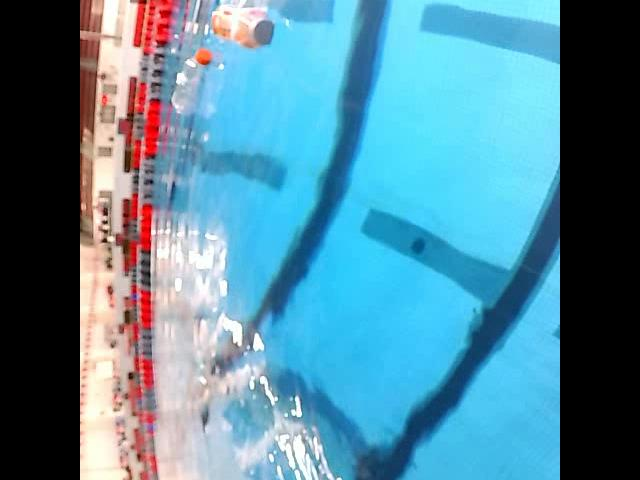Bottle: (207, 0, 279, 51), (165, 45, 215, 118)
